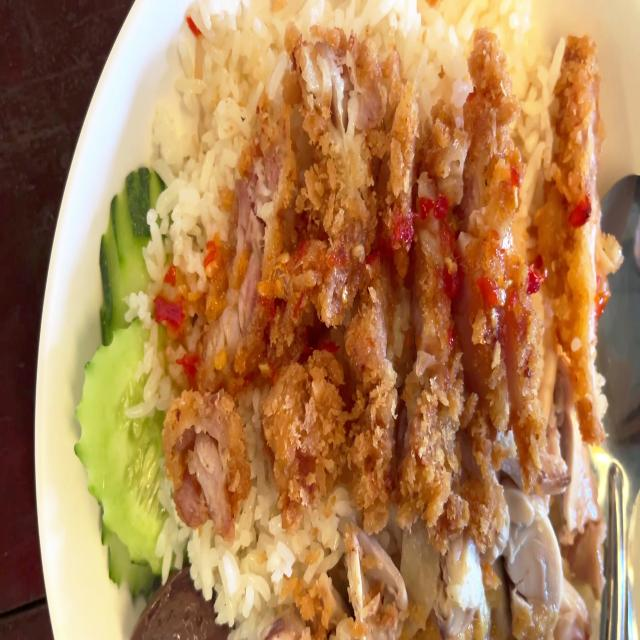boiled_chicken: (271, 503, 609, 640)
boiled_chicken_blood_jelly: (137, 574, 220, 640)
chicken_rice: (94, 4, 614, 640)
cucumber: (84, 171, 182, 580)
fried_chicken: (166, 36, 591, 457)
